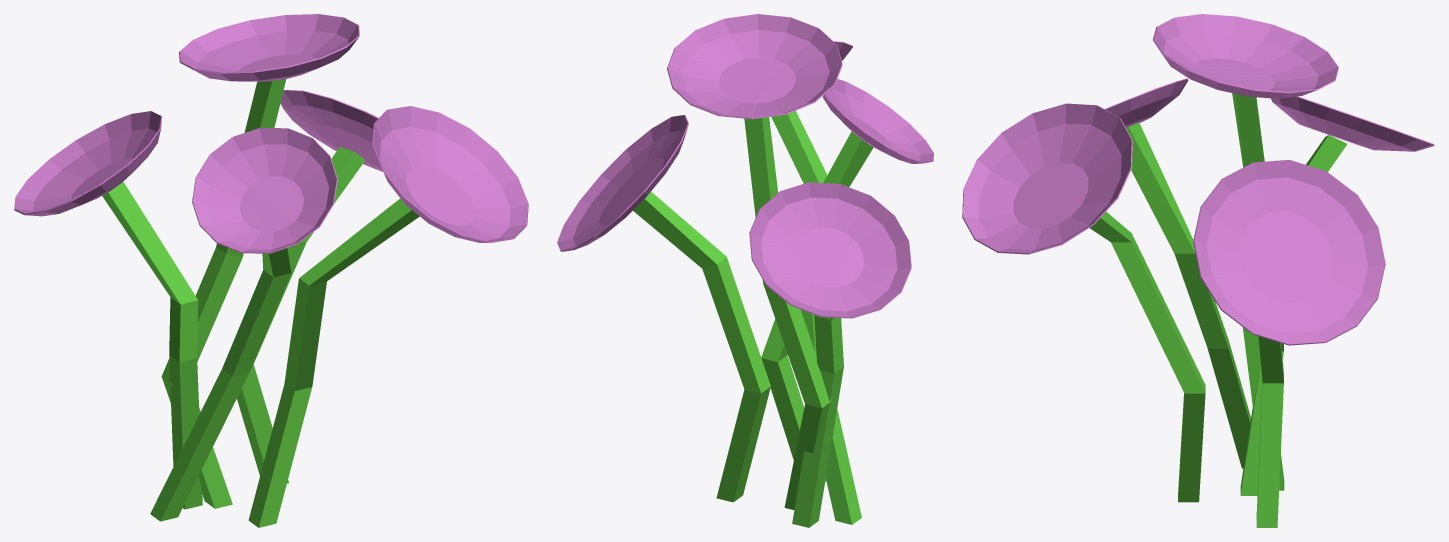
File: optimism.glb
The picture shows the model from 3 angles, left to right: view 1: azimuth 30°, elevation 25°; view 2: azimuth 150°, elevation 25°; view 3: azimuth 270°, elevation 25°; orthographic projection. The views are drawn at different scales.
Parts seen in each view (by area): view 1: ziran.821; view 2: ziran.821; view 3: ziran.821.
Boxes of the visible parts, box(x1,y1,x2,y2) form: ziran.821: box(14, 14, 528, 527); ziran.821: box(557, 14, 933, 527); ziran.821: box(962, 14, 1434, 527).
Bounding box in the file's own units: 0.5865 × 0.6921 × 0.6123.
Materials: 1 (1 with a texture image).
